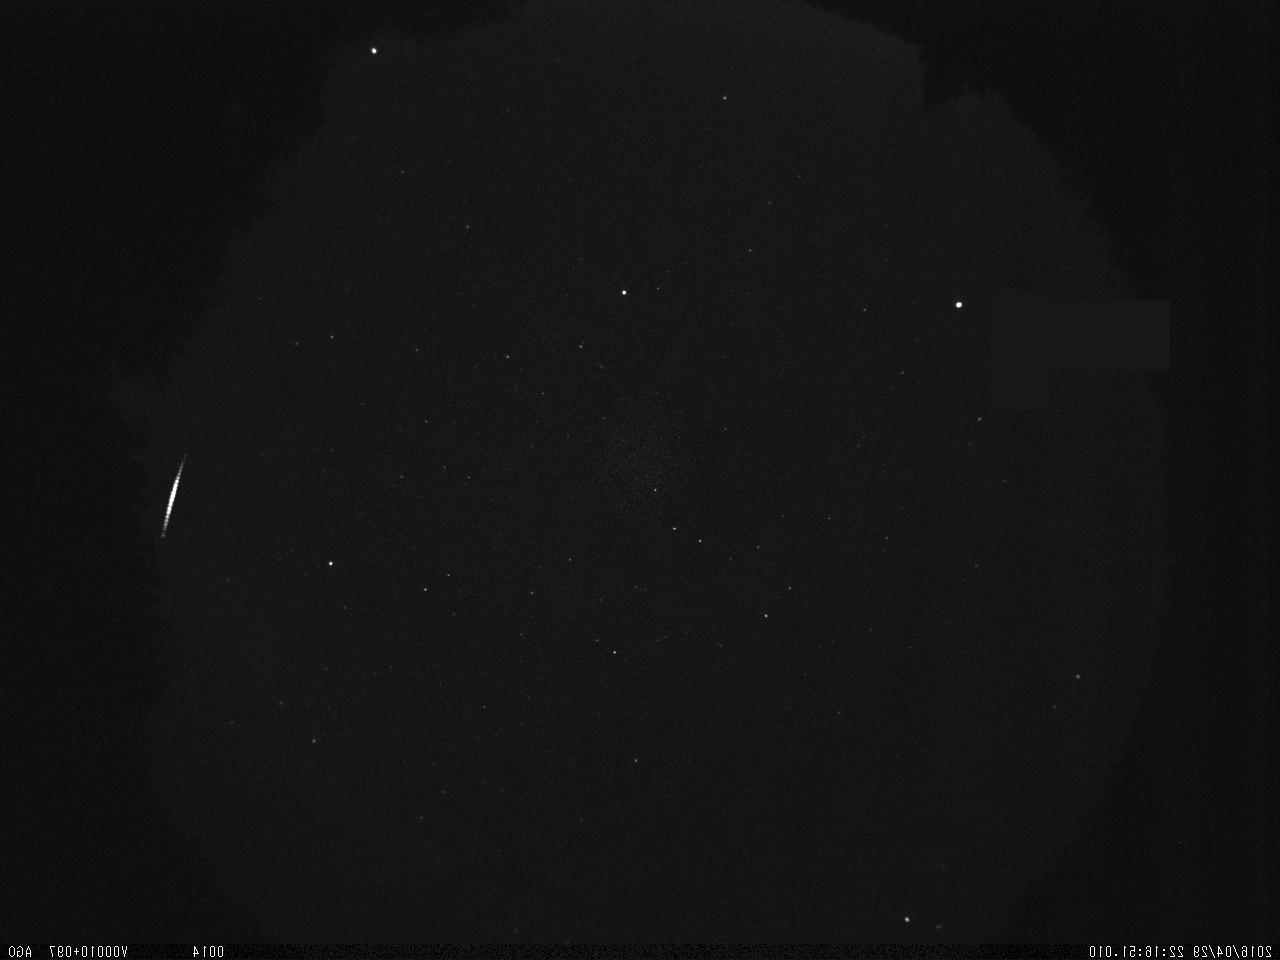meteor: (151, 450, 202, 553)
